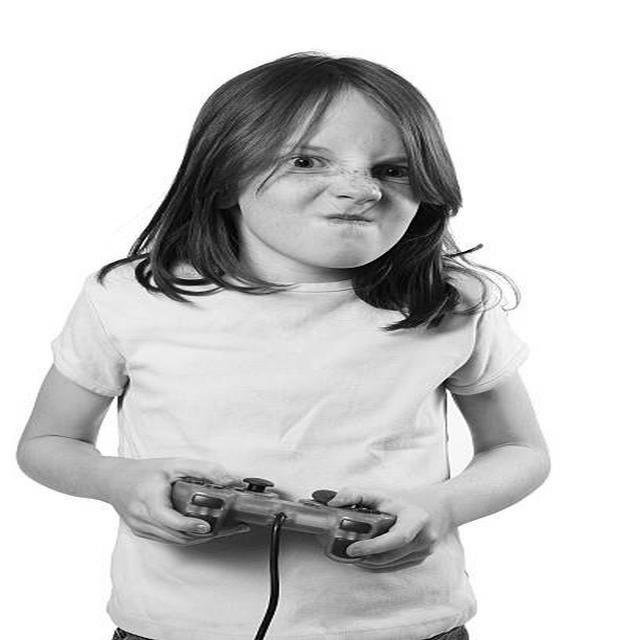Angry: (242, 91, 424, 268)
